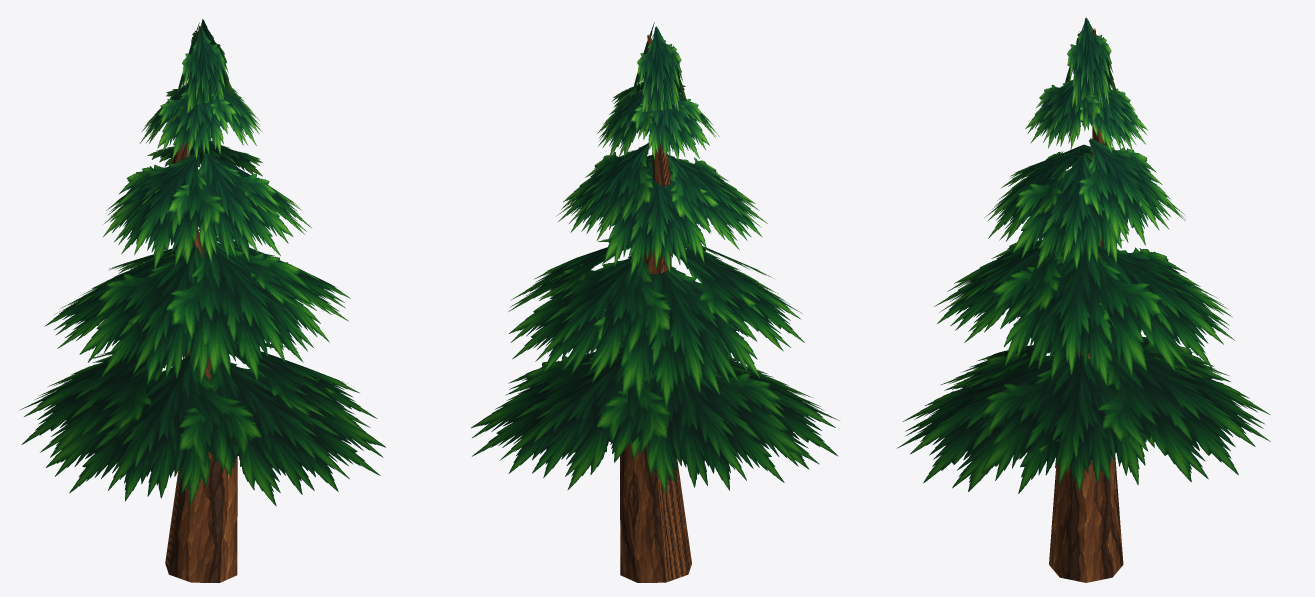
The picture shows the model from 3 angles, left to right: view 1: azimuth 30°, elevation 25°; view 2: azimuth 150°, elevation 25°; view 3: azimuth 270°, elevation 25°; orthographic projection.
Visible parts, largest first — view 1: Tapered harvest trunk; view 2: Tapered harvest trunk; view 3: Tapered harvest trunk.
Part boxes in pixels (left/top/right/bottom): Tapered harvest trunk: left=20, top=19, right=385, bottom=582; Tapered harvest trunk: left=471, top=22, right=839, bottom=582; Tapered harvest trunk: left=897, top=17, right=1270, bottom=582.
Size of the model in its own units: 1.96 by 3.11 by 2.18.
3 materials, 2 textured.
